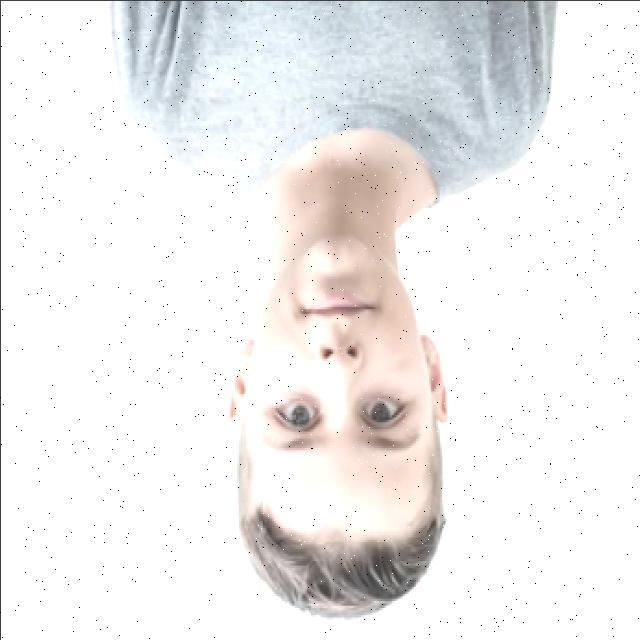face_no_mask: (228, 236, 448, 542)
